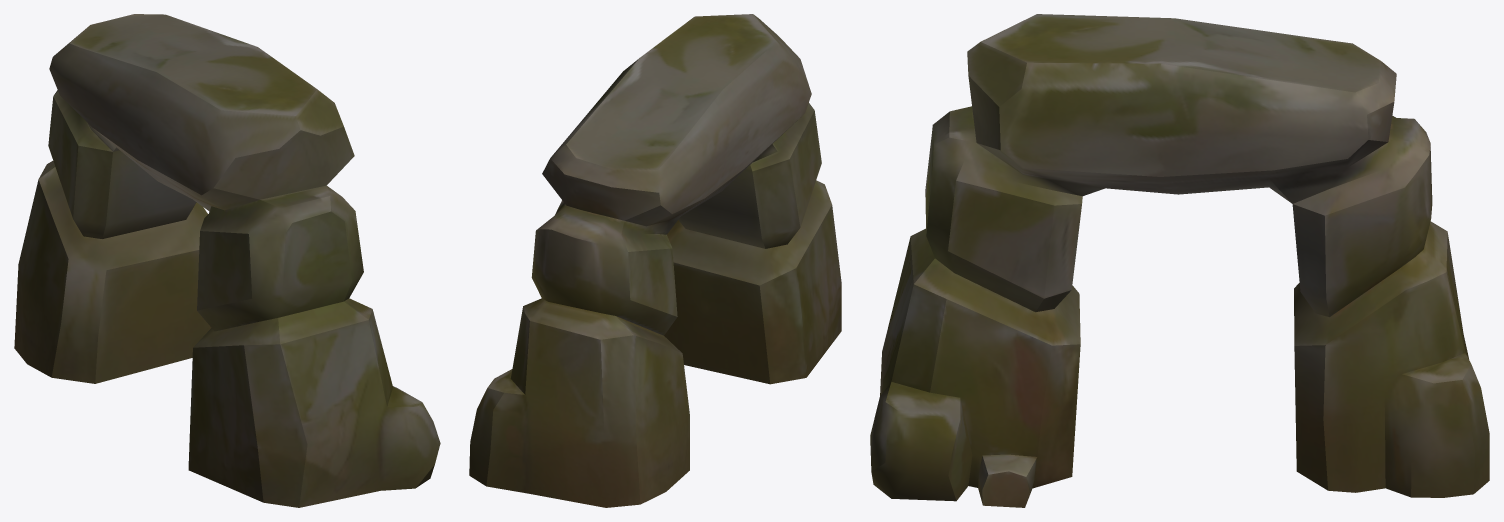
File: Stone_A_001_007.fbx
3 renders of one model, left to right at view 1: azimuth 30°, elevation 25°; view 2: azimuth 150°, elevation 25°; view 3: azimuth 270°, elevation 25°, orthographic. The views are drawn at different scales.
Visible parts, largest first — view 1: Stone_A_001_007_LOD0; view 2: Stone_A_001_007_LOD0; view 3: Stone_A_001_007_LOD0.
Part boxes in pixels (x1,y1,x2,y2): Stone_A_001_007_LOD0: [14, 14, 440, 507]; Stone_A_001_007_LOD0: [469, 14, 841, 507]; Stone_A_001_007_LOD0: [870, 14, 1489, 507].
Size of what is drawn, in the model's own units: 348 by 624 by 832.
Materials: 1 (1 with a texture image).
